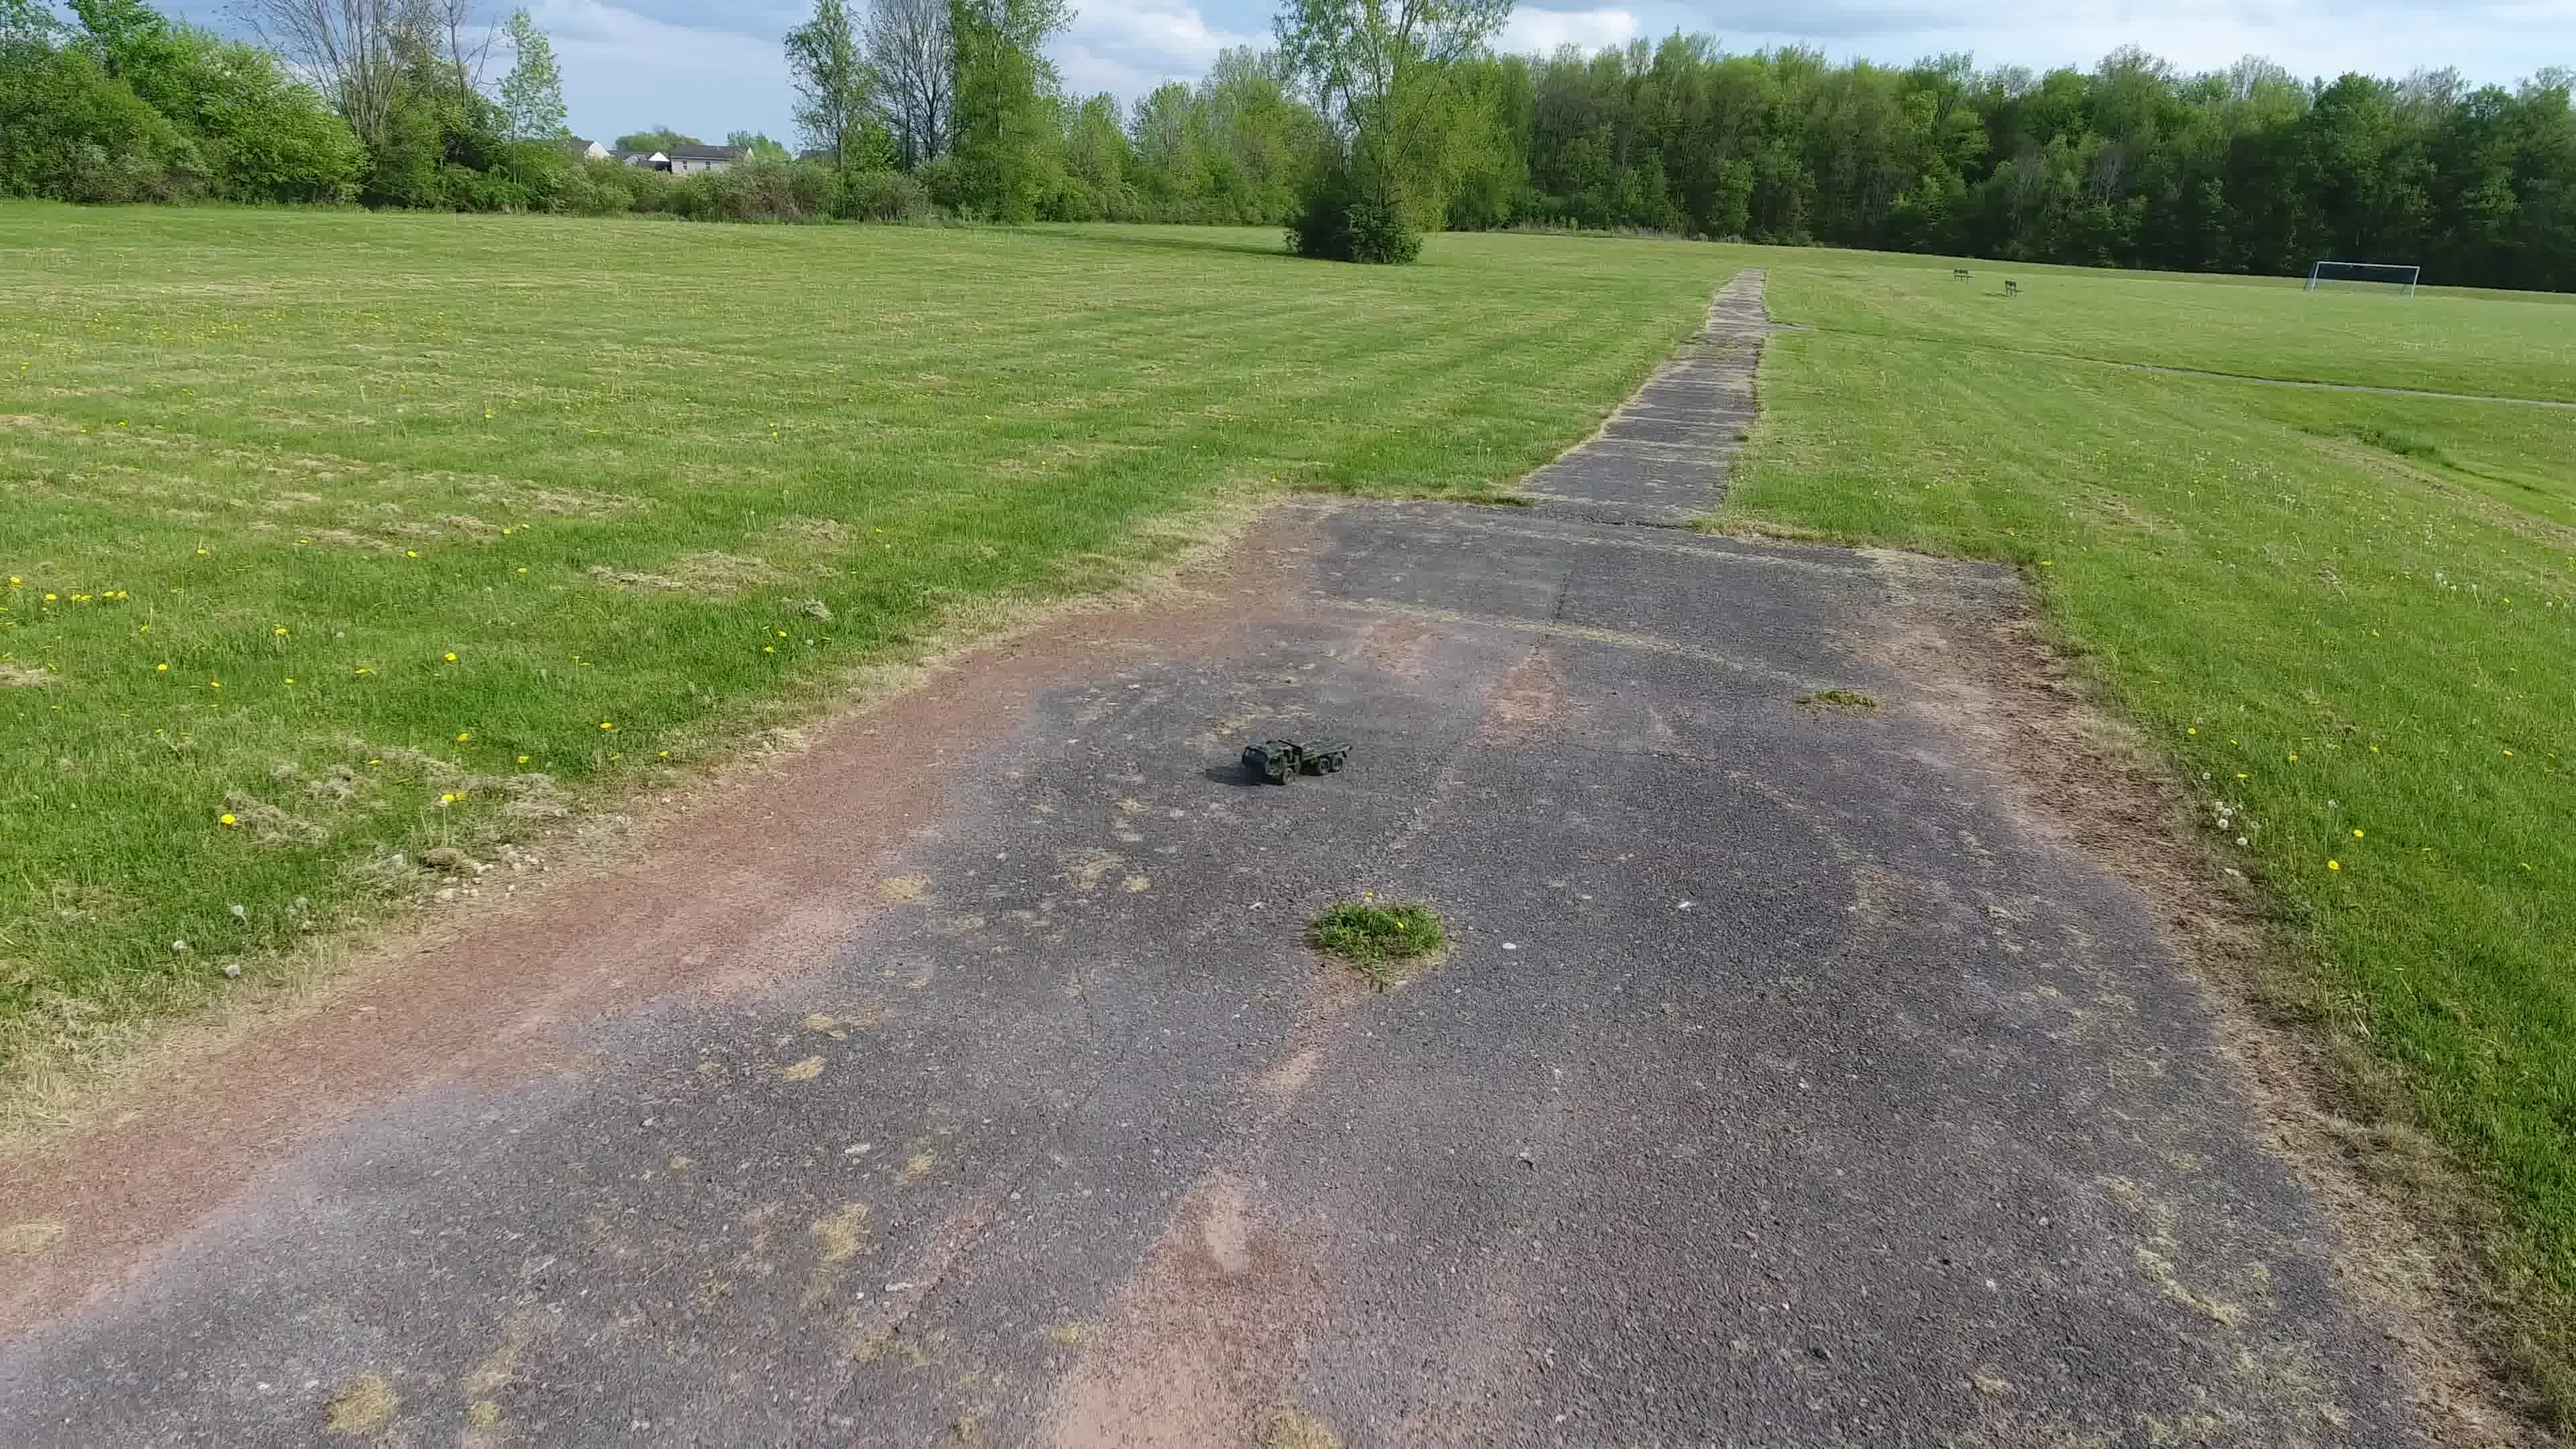transporter9_camo: (1240, 731, 1355, 786)
